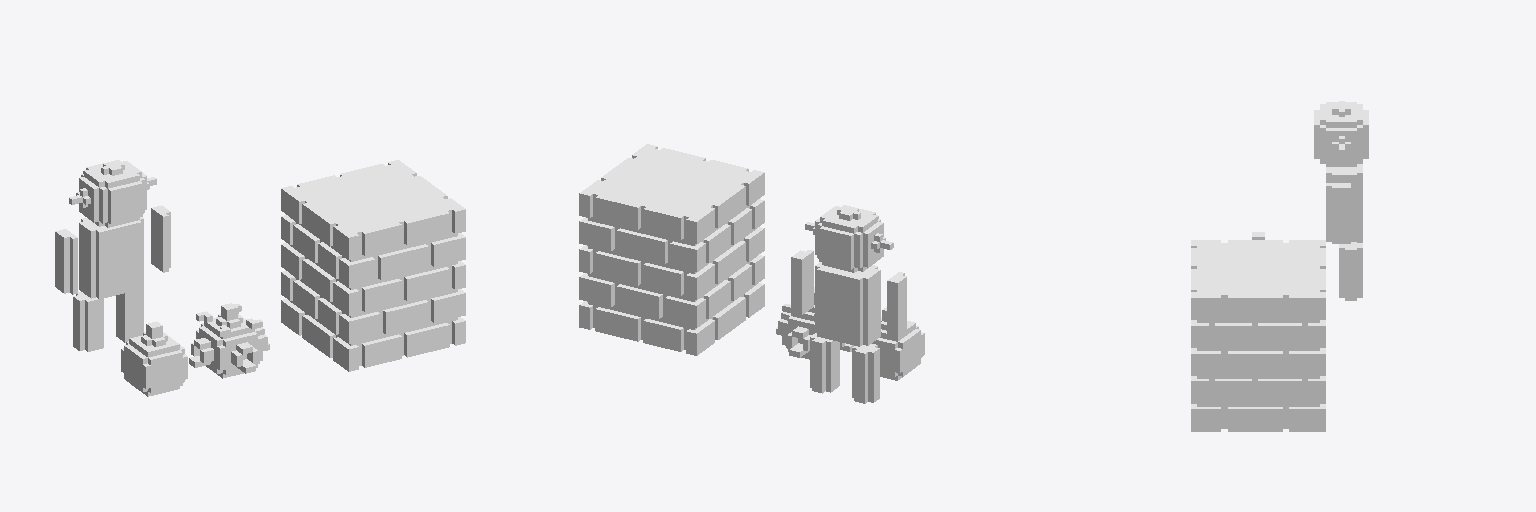
The model's file is Modelos.obj.
3 views of the same model, side by side, from view 1: azimuth 30°, elevation 25°; view 2: azimuth 150°, elevation 25°; view 3: azimuth 270°, elevation 25° (orthographic).
Parts seen in each view (by area): view 1: object 1; view 2: object 1; view 3: object 1.
Part boxes in pixels (x1,y1,x2,y2): object 1: (55,160,465,396); object 1: (579,144,924,403); object 1: (1191,101,1368,431).
Bounding box in the file's own units: 6.2 × 3.4 × 2.9.